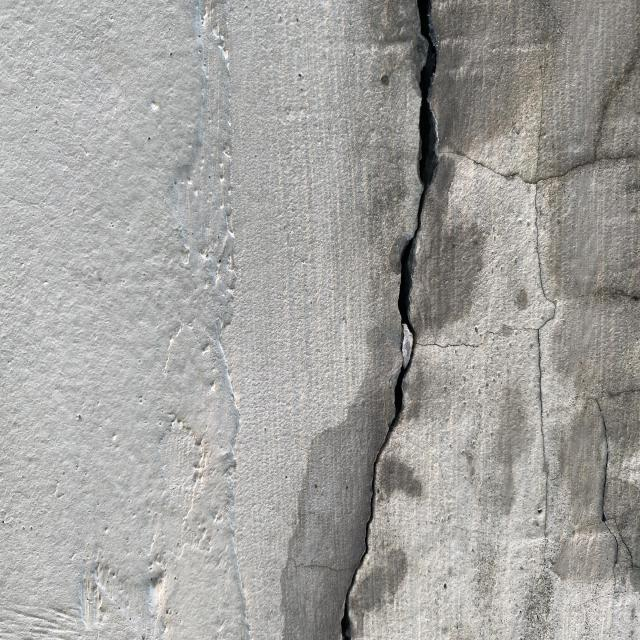SurfaceCrack: (312, 1, 490, 640)
